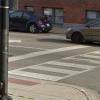Crosswalk: (17, 43, 100, 97)
